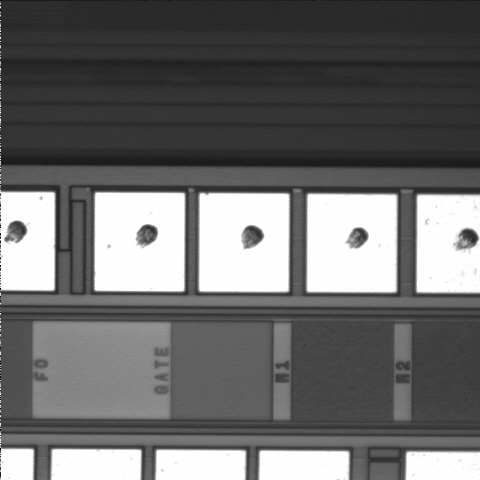pad: (199, 193, 289, 292), (95, 193, 185, 291), (307, 194, 397, 292)
